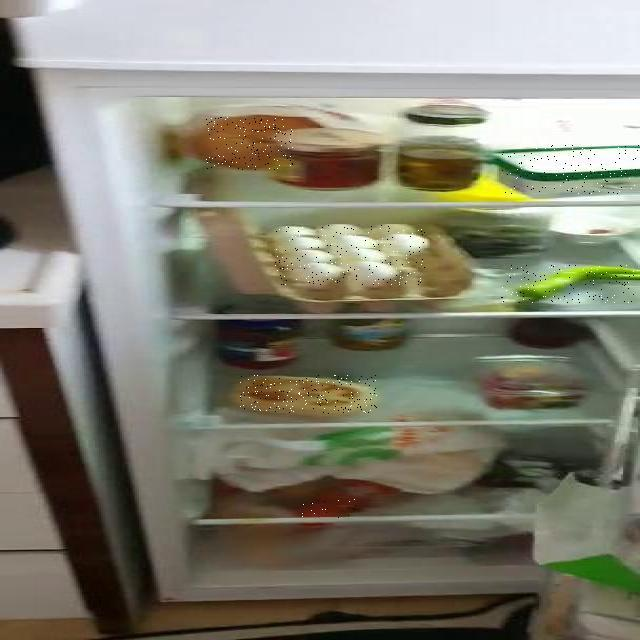bread: (240, 375, 377, 414), (206, 117, 293, 170)
cream cheese: (501, 145, 640, 194)
eggs: (276, 225, 426, 285)
green chilies: (501, 265, 638, 303)
tomato: (299, 499, 356, 518)
